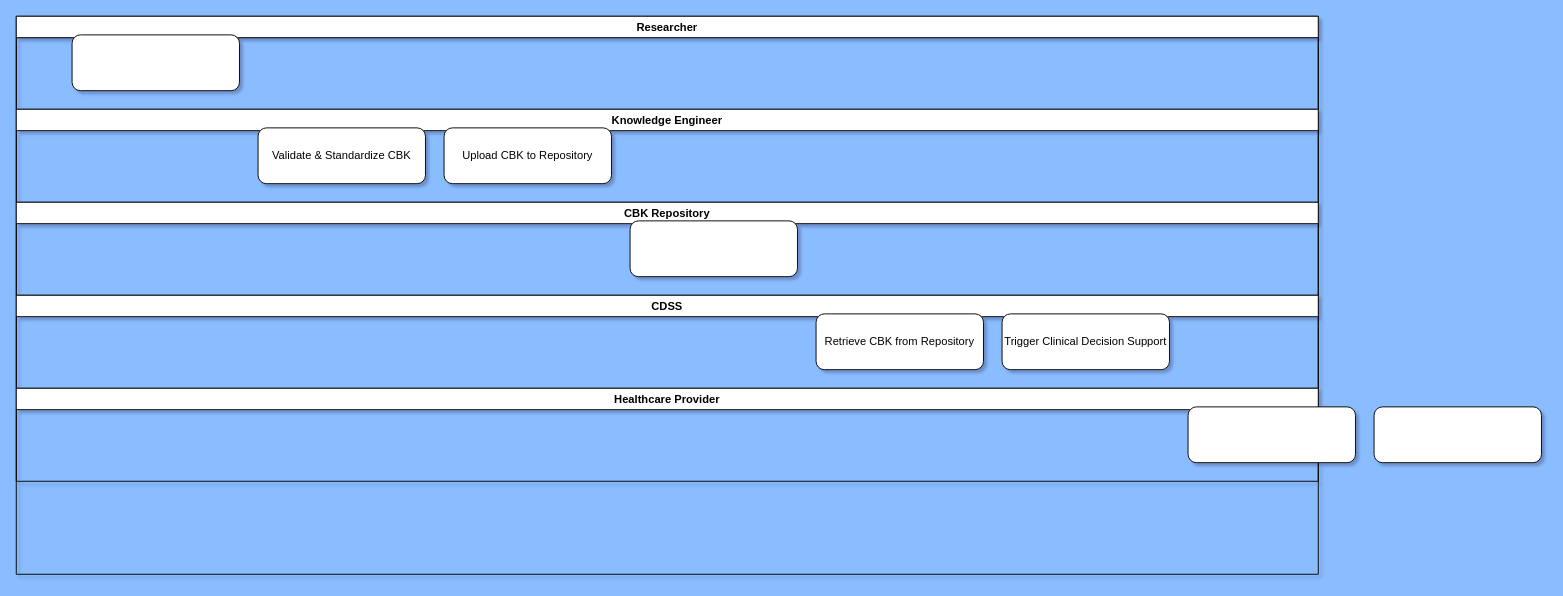
Some shapes in this 1563 by 596 pixel diagram are drawn without their labels. The shapes that lost their labels are listed below. From the top down, each one's centre as x and y in pixels, then its label:
At (x=155, y=62): "Create Biomedical Knowledge".
At (x=713, y=248): "Store & Index CBK".
At (x=1271, y=434): "Review & Act on Recommendation".
At (x=1457, y=434): "Submit Outcome Feedback".
